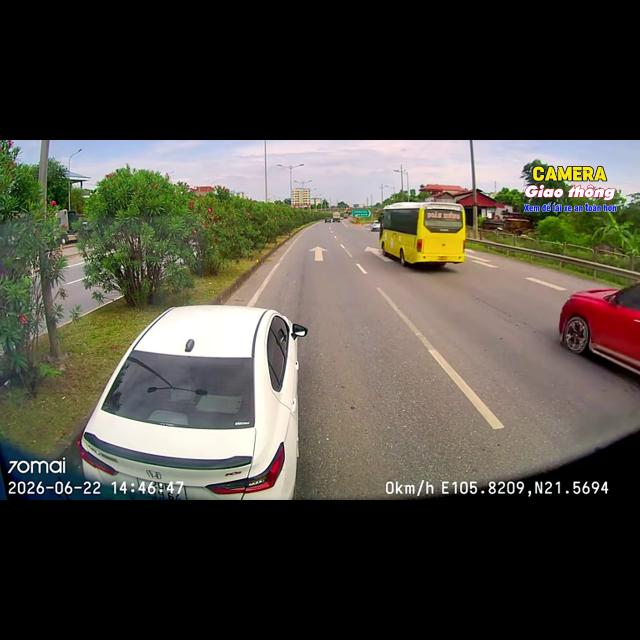bus: (379, 202, 466, 266)
car: (77, 305, 307, 499), (559, 282, 639, 374), (371, 221, 380, 231), (325, 218, 331, 222)
truck: (56, 210, 86, 245), (332, 212, 341, 222)
